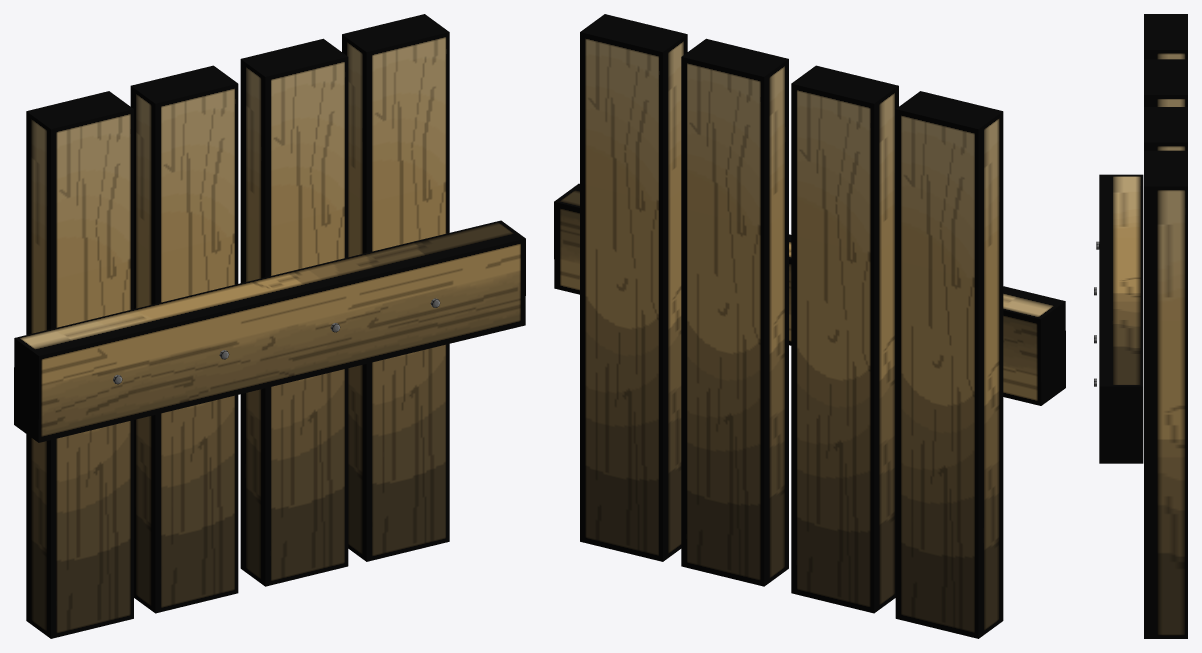
The model's file is Fence.FBX.
3 renders of one model, left to right at view 1: azimuth 30°, elevation 25°; view 2: azimuth 150°, elevation 25°; view 3: azimuth 270°, elevation 25°, orthographic. The views are drawn at different scales.
Parts seen in each view (by area): view 1: Box006, Box003, Box001, Box002, Box004; view 2: Box001, Box003, Box002, Box004, Box006; view 3: Box004, Box006, Box002, Box001, Box003.
Part boxes in pixels (x1,y1,x2,y2): Box006: (14, 220, 525, 442); Box003: (240, 38, 348, 586); Box001: (26, 91, 133, 638); Box002: (130, 65, 238, 613); Box004: (342, 14, 449, 561); Box001: (895, 91, 1003, 638); Box003: (681, 38, 788, 586); Box002: (791, 65, 898, 613); Box004: (580, 14, 687, 561); Box006: (554, 183, 1065, 405); Box004: (1144, 150, 1187, 638); Box006: (1099, 174, 1143, 463); Box002: (1144, 59, 1187, 106); Box001: (1144, 14, 1187, 59); Box003: (1144, 107, 1187, 150).
Size of the model in its own units: 35.91 by 35.9 by 6.75.
